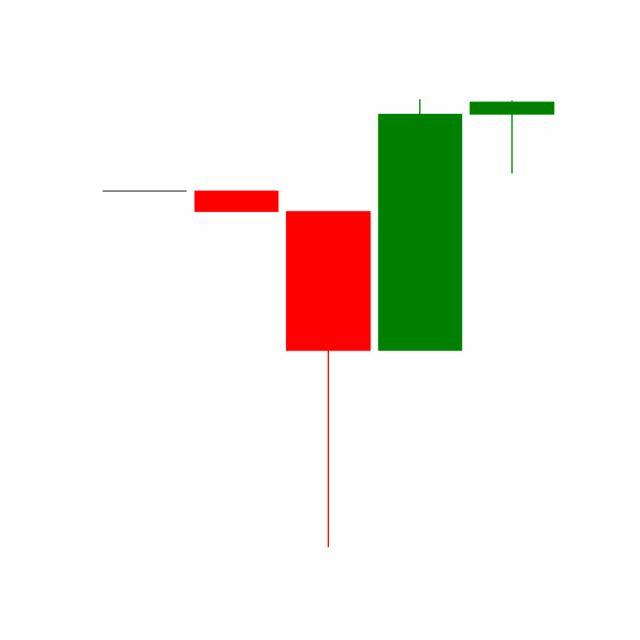Dragonfly Doji: (466, 100, 559, 176)
